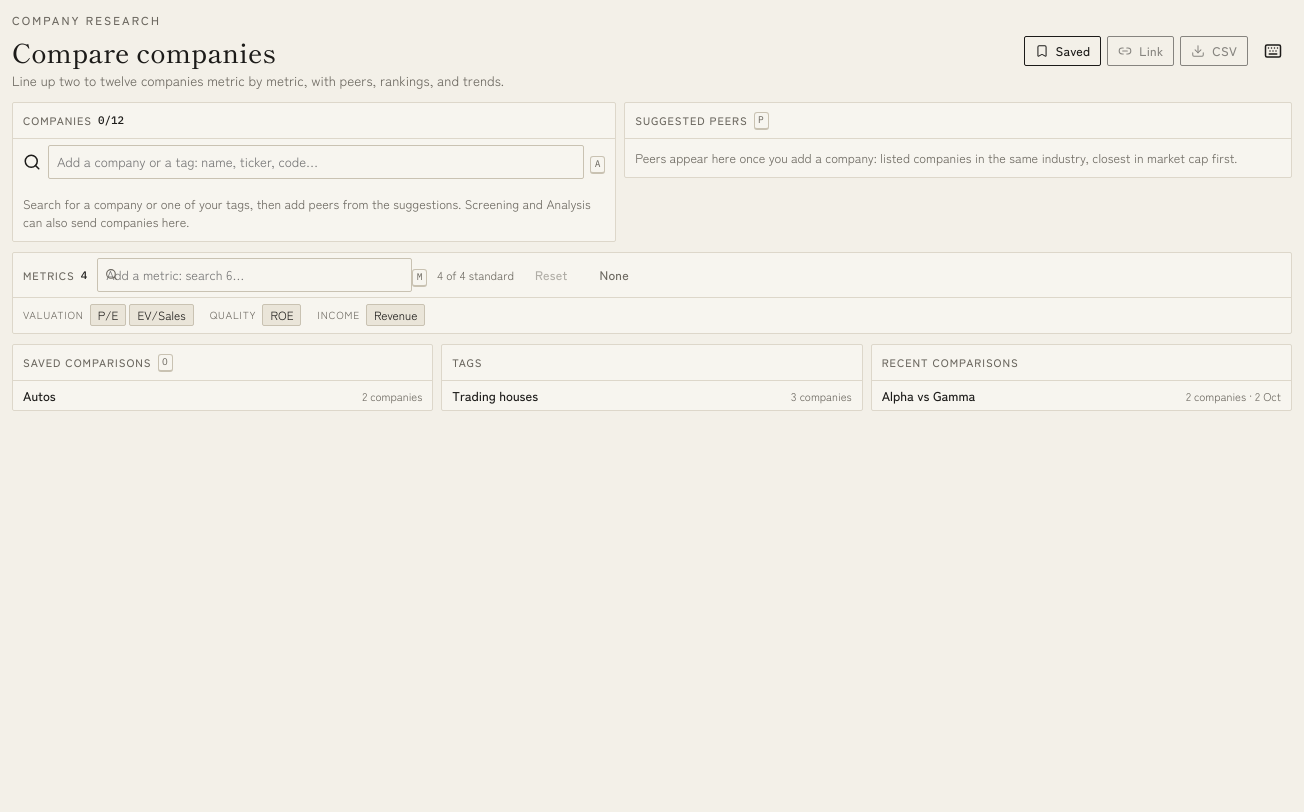
Test case: ComparisonPage › starts from a saved or recent comparison
Expected: the button "P/E" is shown, [90,304,126,326]
Click the button "Autos 2 companies" at (39, 395), box [13,381,432,410]
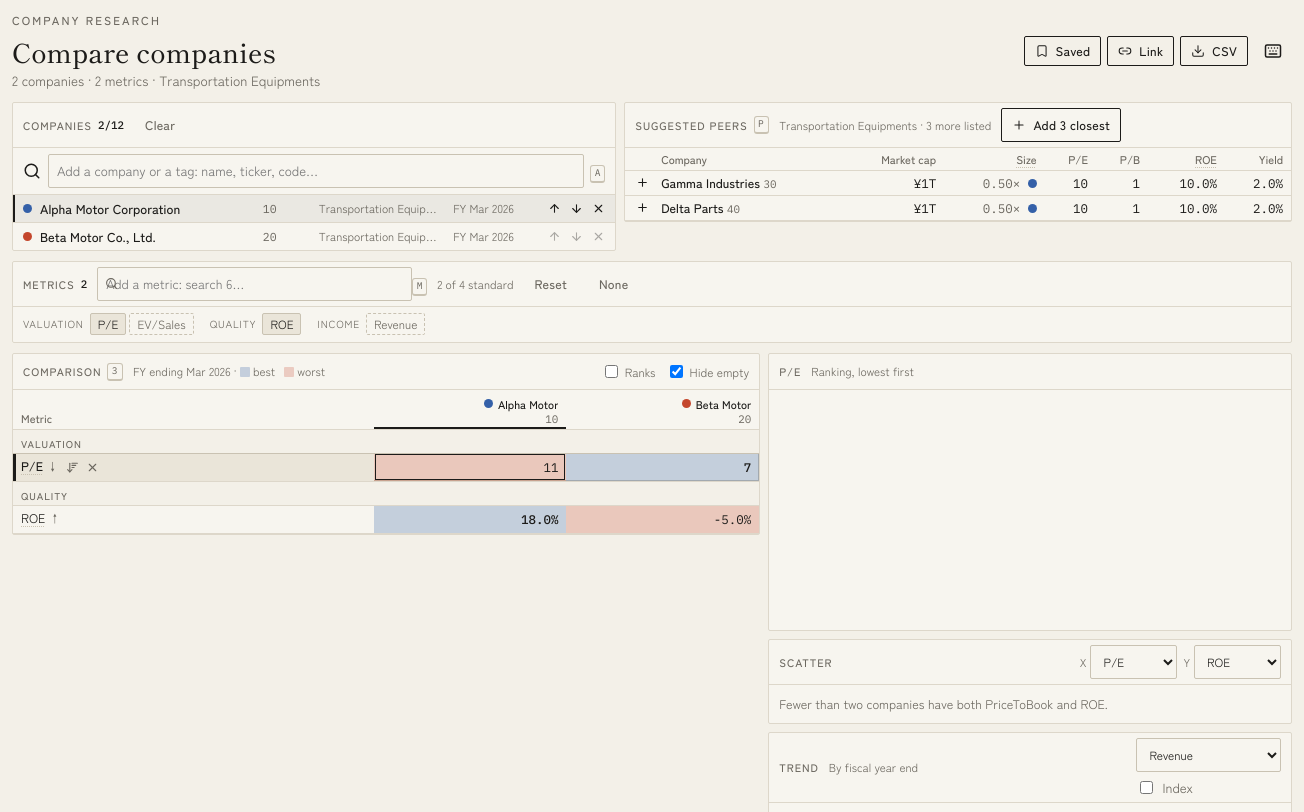
Expected: the table named "Comparison by metric" is shown, [13,390,759,534]
